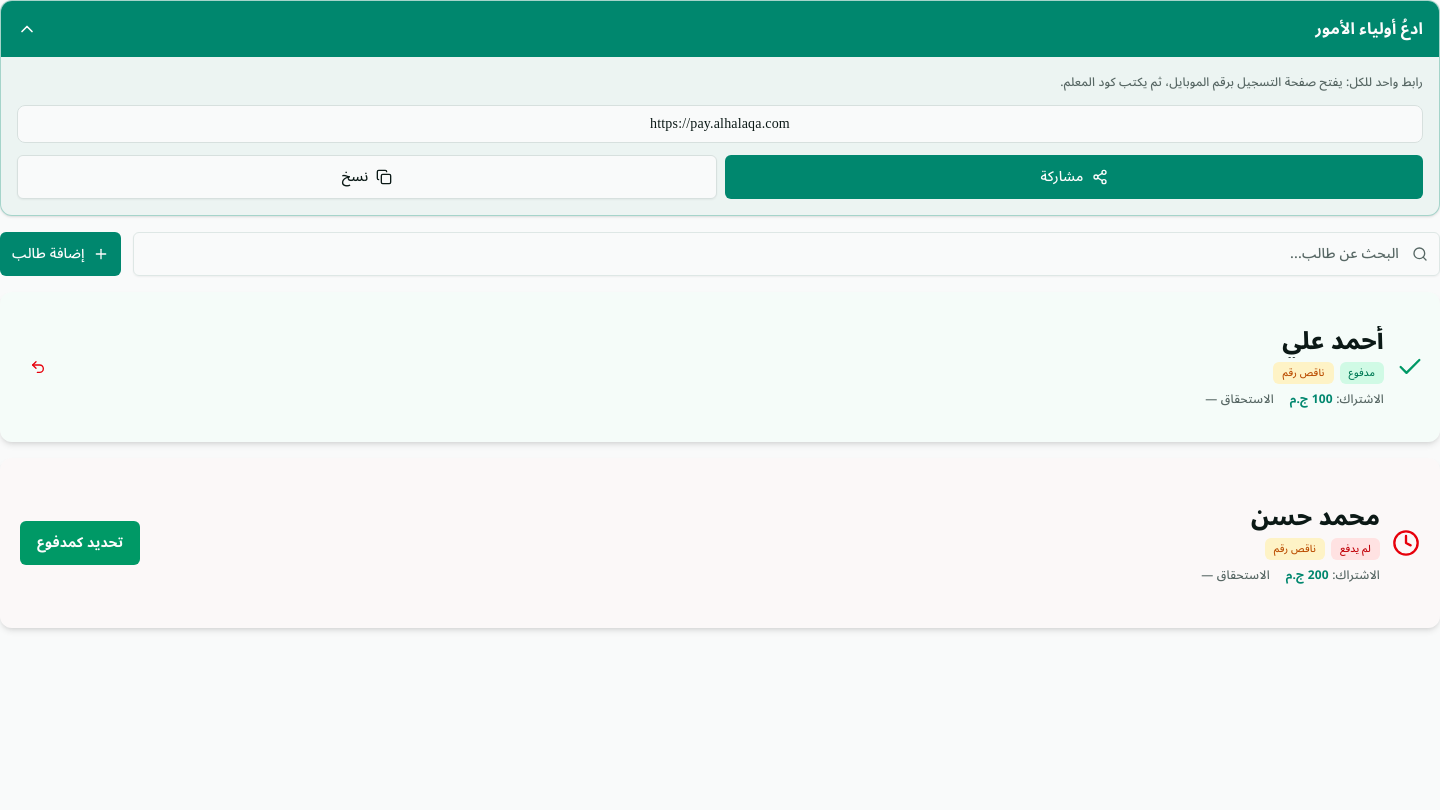
Test: StudentList (merged home) › undo button opens confirm dialog instead of navigating
Click the button with test id "undo-s1" at (38, 367), box [16,345,60,389]
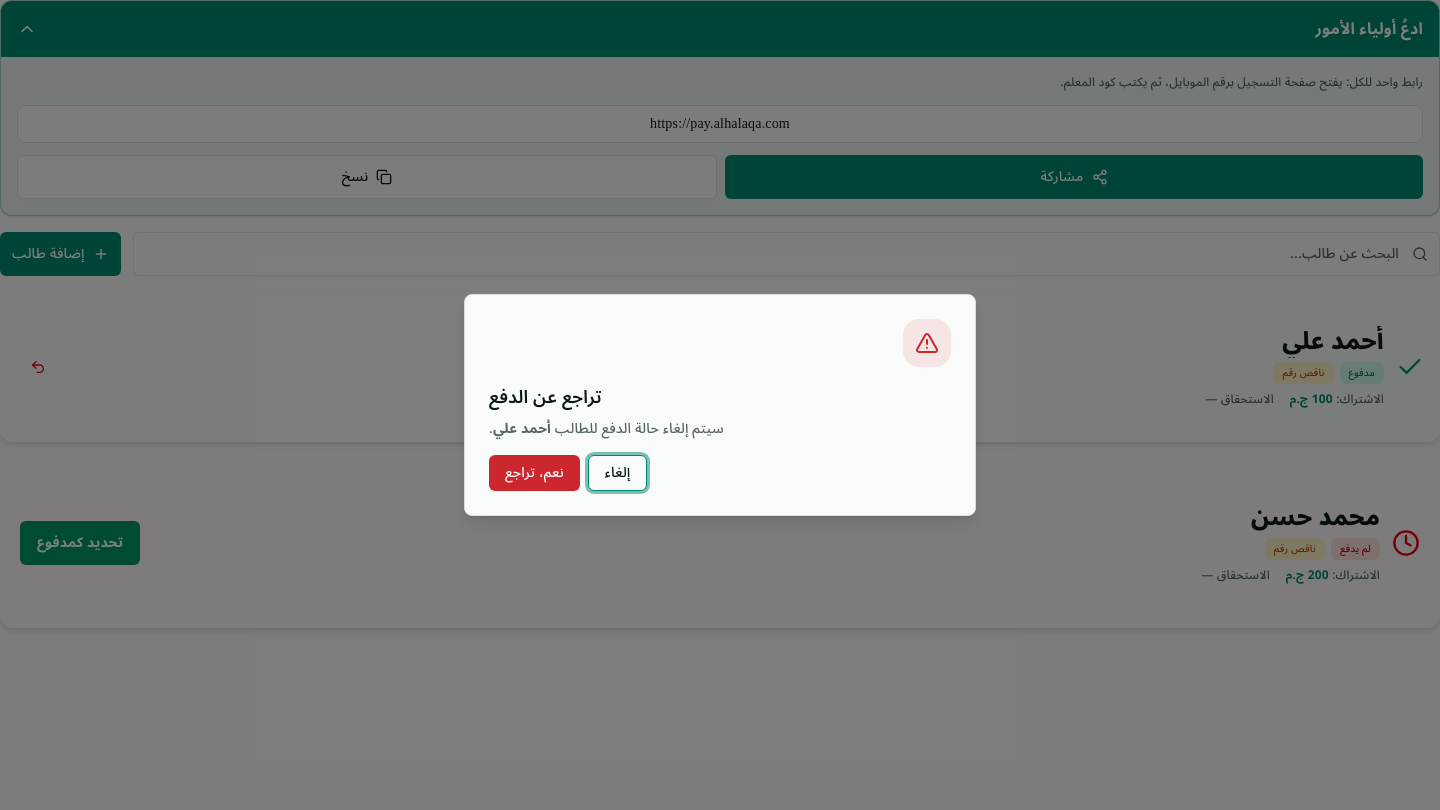
Result: the heading "تراجع عن الدفع" is shown at [489,378,602,416]
Result: the button "نعم، تراجع" is shown at [489,455,580,491]
